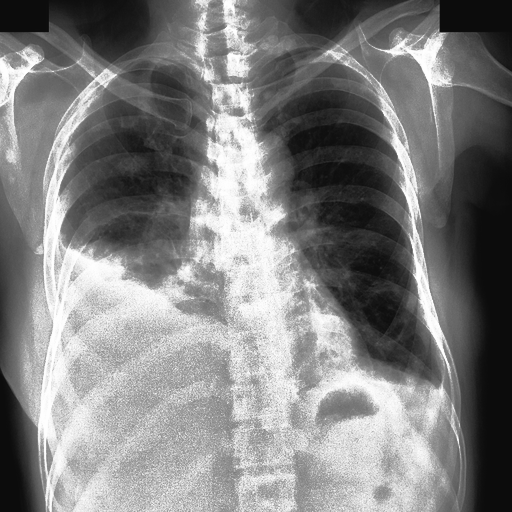Calcification: (430, 376, 453, 403), (147, 55, 175, 67)
Pleural effusion: (40, 241, 221, 379), (430, 354, 454, 410)
Pleural thickening: (75, 226, 215, 309), (117, 156, 146, 175)
Pneumothorax: (118, 154, 149, 176)
